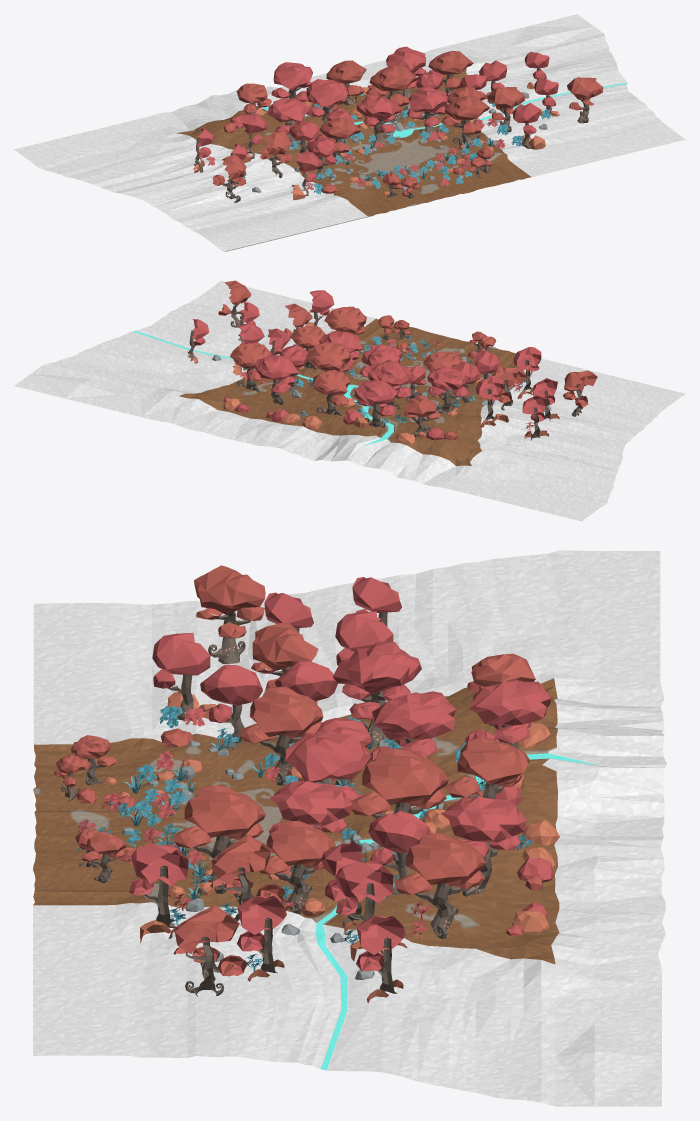
Rendered from burningForestDiorama.fbx.
The picture shows the model from 3 angles, top to bottom: view 1: azimuth 30°, elevation 25°; view 2: azimuth 150°, elevation 25°; view 3: azimuth 270°, elevation 25°; orthographic projection. The views are drawn at different scales.
Parts seen in each view (by area): view 1: BFDiorama_ground, BFDiorama_Props1, BFDiorama_Props4, BFDiorama_Props3, BFDiorama_Props2; view 2: BFDiorama_ground, BFDiorama_Props4, BFDiorama_Props1, BFDiorama_Props3, BFDiorama_Props2; view 3: BFDiorama_ground, BFDiorama_Props1, BFDiorama_Props4, BFDiorama_Props2, BFDiorama_Props3.
Boxes of the visible parts, x1=… form: BFDiorama_ground: x1=14, y1=14, x2=685, y2=251; BFDiorama_Props1: x1=326, y1=46, x2=603, y2=149; BFDiorama_Props4: x1=193, y1=62, x2=347, y2=203; BFDiorama_Props3: x1=389, y1=86, x2=504, y2=185; BFDiorama_Props2: x1=315, y1=94, x2=419, y2=198; BFDiorama_ground: x1=14, y1=280, x2=685, y2=521; BFDiorama_Props4: x1=343, y1=347, x2=597, y2=444; BFDiorama_Props1: x1=187, y1=280, x2=362, y2=428; BFDiorama_Props3: x1=319, y1=306, x2=440, y2=389; BFDiorama_Props2: x1=358, y1=331, x2=514, y2=400; BFDiorama_ground: x1=33, y1=550, x2=666, y2=1106; BFDiorama_Props1: x1=129, y1=737, x2=559, y2=1003; BFDiorama_Props4: x1=152, y1=565, x2=551, y2=805; BFDiorama_Props2: x1=54, y1=686, x2=371, y2=840; BFDiorama_Props3: x1=75, y1=781, x2=378, y2=911.
Bounding box in the file's own units: 73.89 × 7.37 × 35.96.
